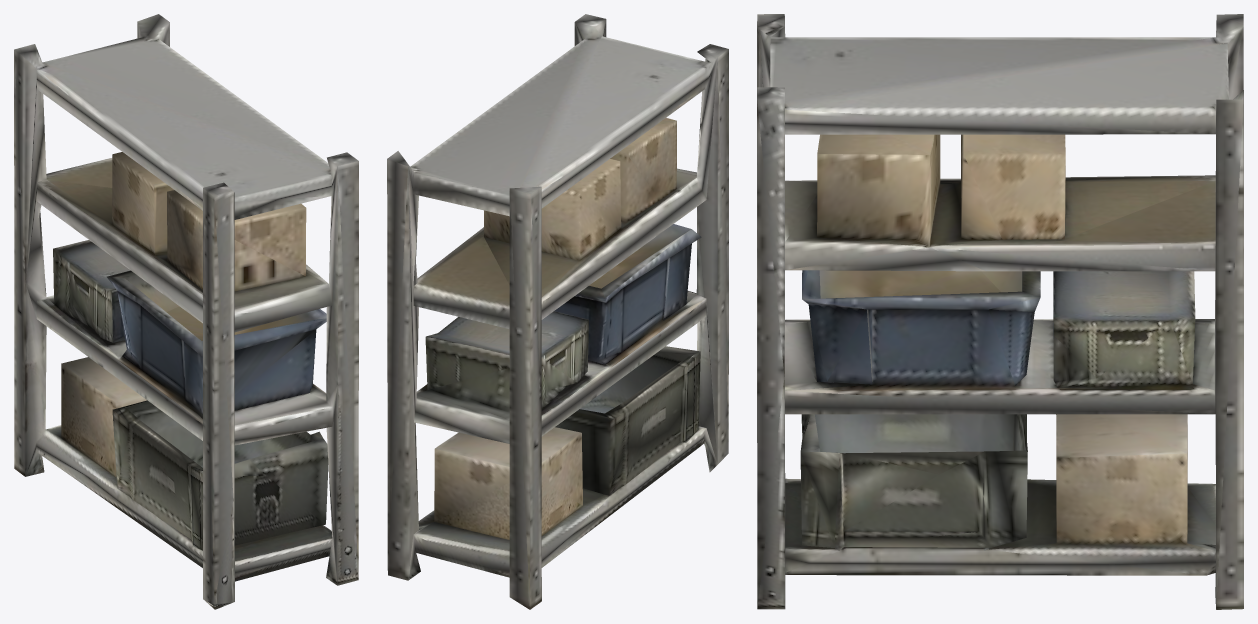
The model's file is tripo_convert_e75d7795-c262-4452-82af-20ed20ce18a9.fbx.
3 views of the same model, side by side, from view 1: azimuth 30°, elevation 25°; view 2: azimuth 150°, elevation 25°; view 3: azimuth 270°, elevation 25° (orthographic). The views are drawn at different scales.
Visible parts, largest first — view 1: tripo_node_e75d7795; view 2: tripo_node_e75d7795; view 3: tripo_node_e75d7795.
Part boxes in pixels (x1,y1,x2,y2): tripo_node_e75d7795: (14,14,358,609); tripo_node_e75d7795: (387,14,728,609); tripo_node_e75d7795: (757,14,1243,609).
Size of the model in its own units: 0.3597 by 1 by 0.8607.
Materials: 1 (1 with a texture image).
